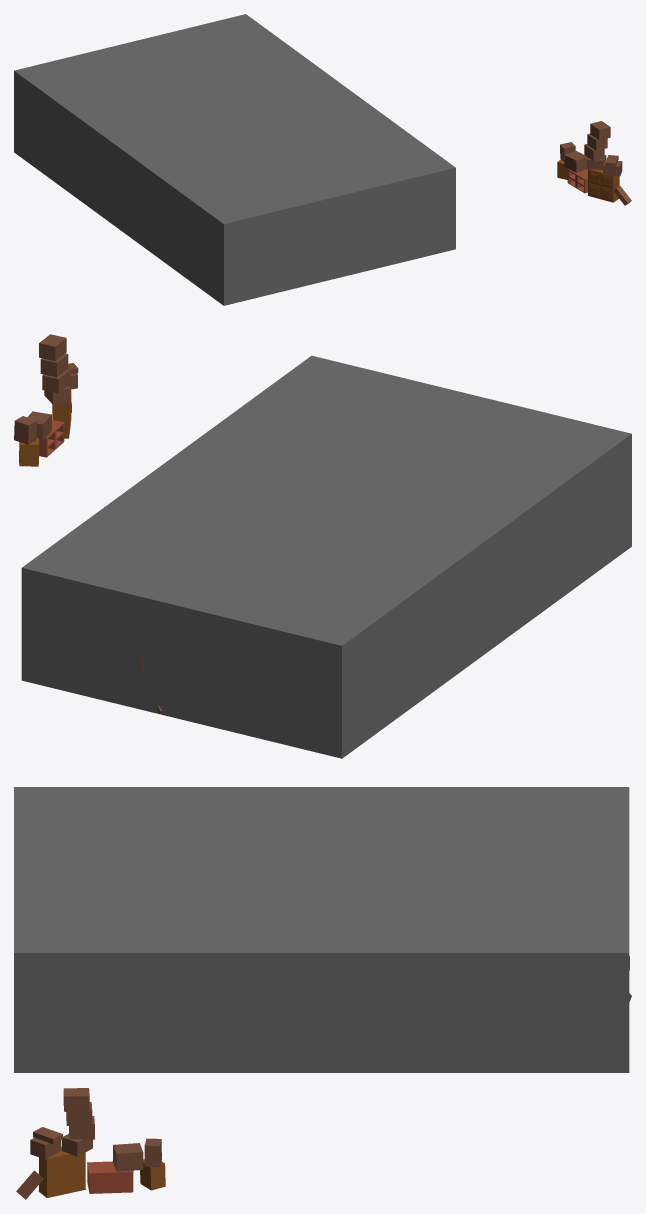
The model's file is blockout_room1.fbx.
3 views of the same model, one above another, from view 1: azimuth 30°, elevation 25°; view 2: azimuth 150°, elevation 25°; view 3: azimuth 270°, elevation 25° (orthographic). The views are drawn at different scales.
Parts seen in each view (by area): view 1: Plane, Cube.008, caixa.004; view 2: Plane, caixa.004, Cube.009; view 3: Plane, Cube.008, caixa.004, Cube.009, caixa.006, caixa.005.
Boxes of the visible parts, left/top/right/bottom form: Plane: left=14, top=14, right=455, bottom=305; Cube.008: left=588, top=169, right=619, bottom=202; caixa.004: left=584, top=121, right=610, bottom=161; Plane: left=21, top=355, right=631, bottom=758; caixa.004: left=39, top=334, right=69, bottom=393; Cube.009: left=39, top=420, right=64, bottom=457; Plane: left=14, top=787, right=629, bottom=1072; Cube.008: left=38, top=1147, right=85, bottom=1197; caixa.004: left=63, top=1088, right=94, bottom=1139; Cube.009: left=87, top=1161, right=133, bottom=1193; caixa.006: left=113, top=1143, right=143, bottom=1171; caixa.005: left=140, top=1159, right=165, bottom=1190.
Size of the model in its own units: 3178 by 605 by 2825.
